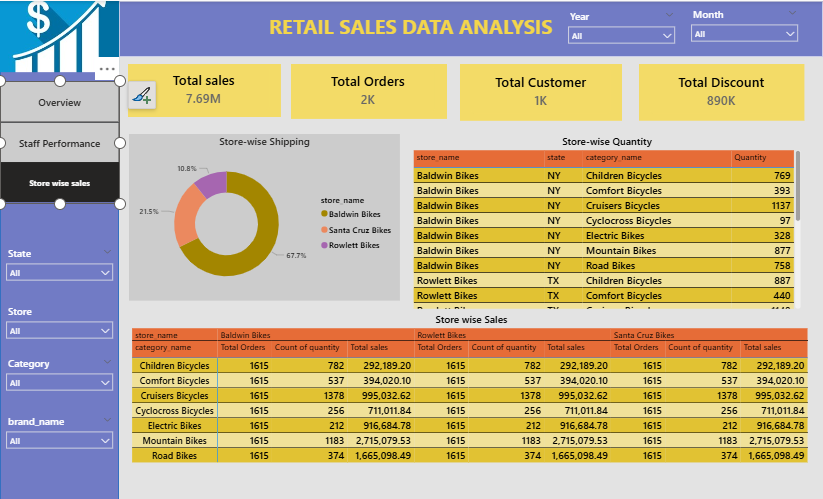

This screenshot's page, from the dashboard's own definition file:
{"tool":"powerbi","page":{"name":"Store wise sales","canvas":[1318,801],"ordinal":2},"visuals":[{"type":"shape","box":[0,0,190.6,801],"z":0},{"type":"shape","box":[190.6,0,1127.8,89.7],"z":0,"group":"g1"},{"type":"shape","box":[205.5,100.9,245.1,84.9],"z":0,"group":"g2"},{"type":"shape","box":[466.9,100.9,249.9,88.1],"z":0,"group":"g5"},{"type":"shape","box":[737.2,100.9,259.5,91.3],"z":0,"group":"g3"},{"type":"shape","box":[1024.3,100.9,265.2,90.9],"z":0,"group":"g4"},{"type":"group","id":"g1","title":"Group 1","box":[190.6,0,1127.8,89.7],"z":1000},{"type":"textbox","box":[364.5,12.8,585.4,65.9],"z":1000,"group":"g1"},{"type":"cardVisual","fields":{"Data":["public brands.Total sales"]},"box":[217.1,100.9,220.3,78.9],"z":1000,"group":"g2"},{"type":"cardVisual","fields":{"Data":["public brands.Total Orders"]},"box":[478.7,100.9,224.6,81.9],"z":1000,"group":"g5"},{"type":"cardVisual","fields":{"Data":["public brands.Customer Count"]},"box":[749.5,100.9,233.2,84.9],"z":1000,"group":"g3"},{"type":"cardVisual","fields":{"Data":["public brands.Total Discount"]},"box":[1036.8,100.9,238.3,84.5],"z":1000,"group":"g4"},{"type":"group","id":"g2","title":"Group 2","box":[205.5,100.9,245.1,84.9],"z":2000},{"type":"group","id":"g3","title":"Group 2","box":[737.2,100.9,259.5,91.3],"z":3000},{"type":"group","id":"g4","title":"Group 2","box":[1024.3,100.9,265.9,91.3],"z":4000},{"type":"group","id":"g5","title":"Group 2","box":[466.9,100.9,249.9,88.1],"z":5000},{"type":"slicer","fields":{"Values":["public orders.order_date.Variation.Date Hierarchy.Year"]},"box":[900.1,7.4,191.4,77.3],"z":6000},{"type":"slicer","fields":{"Values":["public orders.order_date.Variation.Date Hierarchy.Month"]},"box":[1097.1,5.5,191.4,79.2],"z":7000},{"type":"slicer","fields":{"Values":["public customers.state"]},"box":[0,388.4,191.4,79.2],"z":8000},{"type":"slicer","fields":{"Values":["public stores.store_name"]},"box":[0,480.4,191.4,79.2],"z":9000},{"type":"slicer","fields":{"Values":["public categories.category_name"]},"box":[0,563.3,191.4,79.2],"z":10000},{"type":"slicer","fields":{"Values":["public brands.brand_name"]},"box":[0,657.2,191.4,79.2],"z":11000},{"type":"image","box":[0,0,191.4,114.1],"z":12000},{"type":"pivotTable","title":"Store wise Sales","fields":{"Values":["public brands.Total Orders","CountNonNull(public order_items.quantity)","public brands.Total sales"],"Columns":["public sales_summary.store_name"],"Rows":["public categories.category_name"]},"box":[206.2,498.9,1097.1,255.9],"z":13000},{"type":"donutChart","title":"Store-wise Shipping ","fields":{"Category":["public stores.store_name"],"Y":["CountNonNull(public orders.shipping_status)"]},"box":[206.2,213.5,434.4,266.9],"z":14000},{"type":"pageNavigator","box":[0,128.9,191.4,197],"z":15000},{"type":"tableEx","title":"Store-wise Quantity","fields":{"Values":["public stores.store_name","public customers.state","public categories.category_name","Sum(public stocks.quantity)"]},"box":[657.2,213.5,631.4,285.3],"z":16000}]}

Visuals, with their boxes on the page's 1318x801 design canvas (x1, y1, x2, y2). These are canvas units, not pixel positions in the 823x499 screenshot, which may show the page scaled, cropped or inside an application window:
shape: x1=0 y1=0 x2=191 y2=801
shape: x1=191 y1=0 x2=1318 y2=90
shape: x1=206 y1=101 x2=451 y2=186
shape: x1=467 y1=101 x2=717 y2=189
shape: x1=737 y1=101 x2=997 y2=192
shape: x1=1024 y1=101 x2=1290 y2=192
"Group 1" group: x1=191 y1=0 x2=1318 y2=90
textbox: x1=364 y1=13 x2=950 y2=79
cardVisual - public brands.Total sales: x1=217 y1=101 x2=437 y2=180
cardVisual - public brands.Total Orders: x1=479 y1=101 x2=703 y2=183
cardVisual - public brands.Customer Count: x1=750 y1=101 x2=983 y2=186
cardVisual - public brands.Total Discount: x1=1037 y1=101 x2=1275 y2=185
"Group 2" group: x1=206 y1=101 x2=451 y2=186
"Group 2" group: x1=737 y1=101 x2=997 y2=192
"Group 2" group: x1=1024 y1=101 x2=1290 y2=192
"Group 2" group: x1=467 y1=101 x2=717 y2=189
slicer - public orders.order_date.Variation.Date Hierarchy.Year: x1=900 y1=7 x2=1092 y2=85
slicer - public orders.order_date.Variation.Date Hierarchy.Month: x1=1097 y1=6 x2=1288 y2=85
slicer - public customers.state: x1=0 y1=388 x2=191 y2=468
slicer - public stores.store_name: x1=0 y1=480 x2=191 y2=560
slicer - public categories.category_name: x1=0 y1=563 x2=191 y2=642
slicer - public brands.brand_name: x1=0 y1=657 x2=191 y2=736
image: x1=0 y1=0 x2=191 y2=114
"Store wise Sales" pivotTable: x1=206 y1=499 x2=1303 y2=755
"Store-wise Shipping " donutChart: x1=206 y1=214 x2=641 y2=480
pageNavigator: x1=0 y1=129 x2=191 y2=326
"Store-wise Quantity" tableEx: x1=657 y1=214 x2=1289 y2=499
